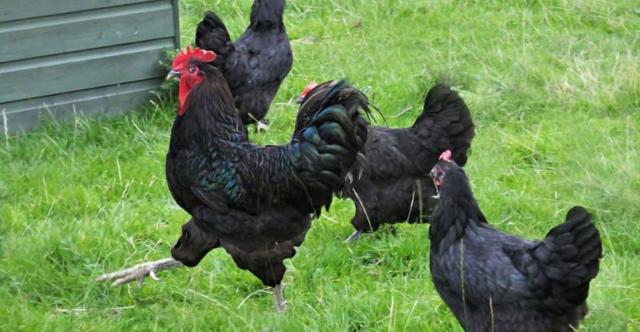Chicken: (95, 45, 387, 312), (428, 150, 603, 332), (295, 83, 473, 243), (193, 1, 293, 134)
